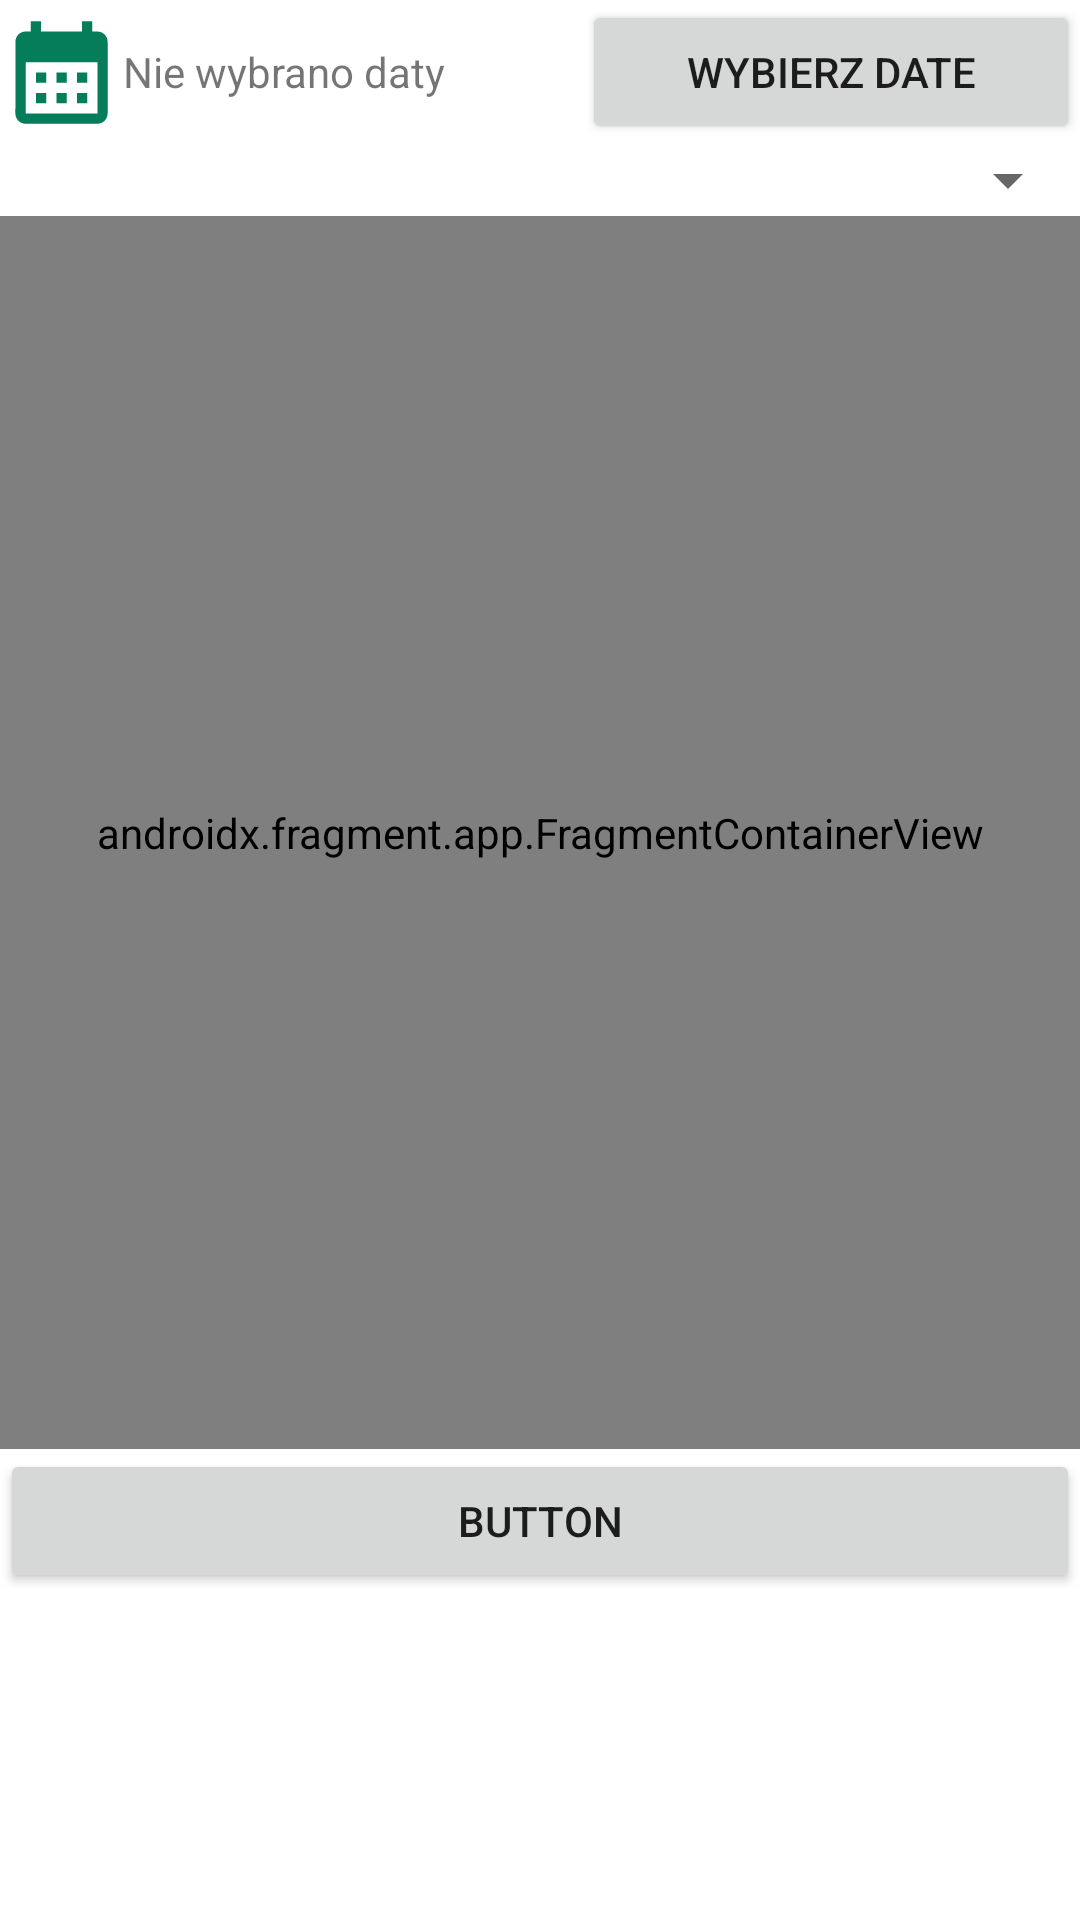

Icon bounding boxes for this 1080px x 1920px phone screenshot, format bbox(x1, y1, x2, y2):
calendar month: bbox(15, 21, 108, 124)
